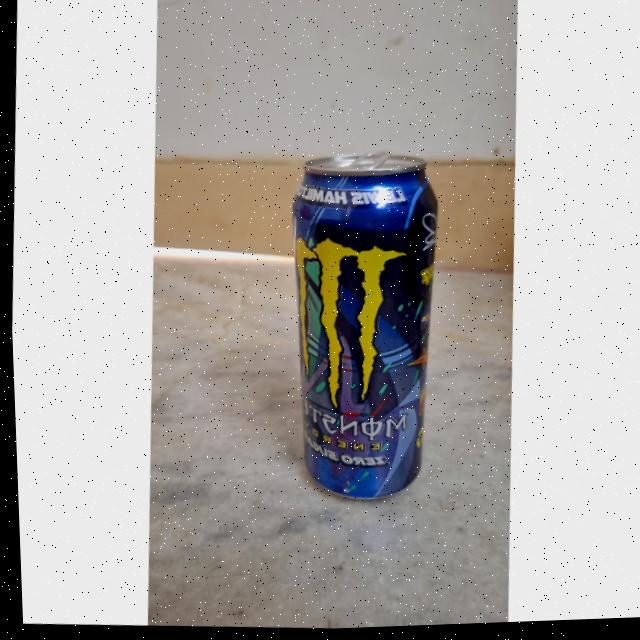Monster LH44: (277, 154, 443, 503)
